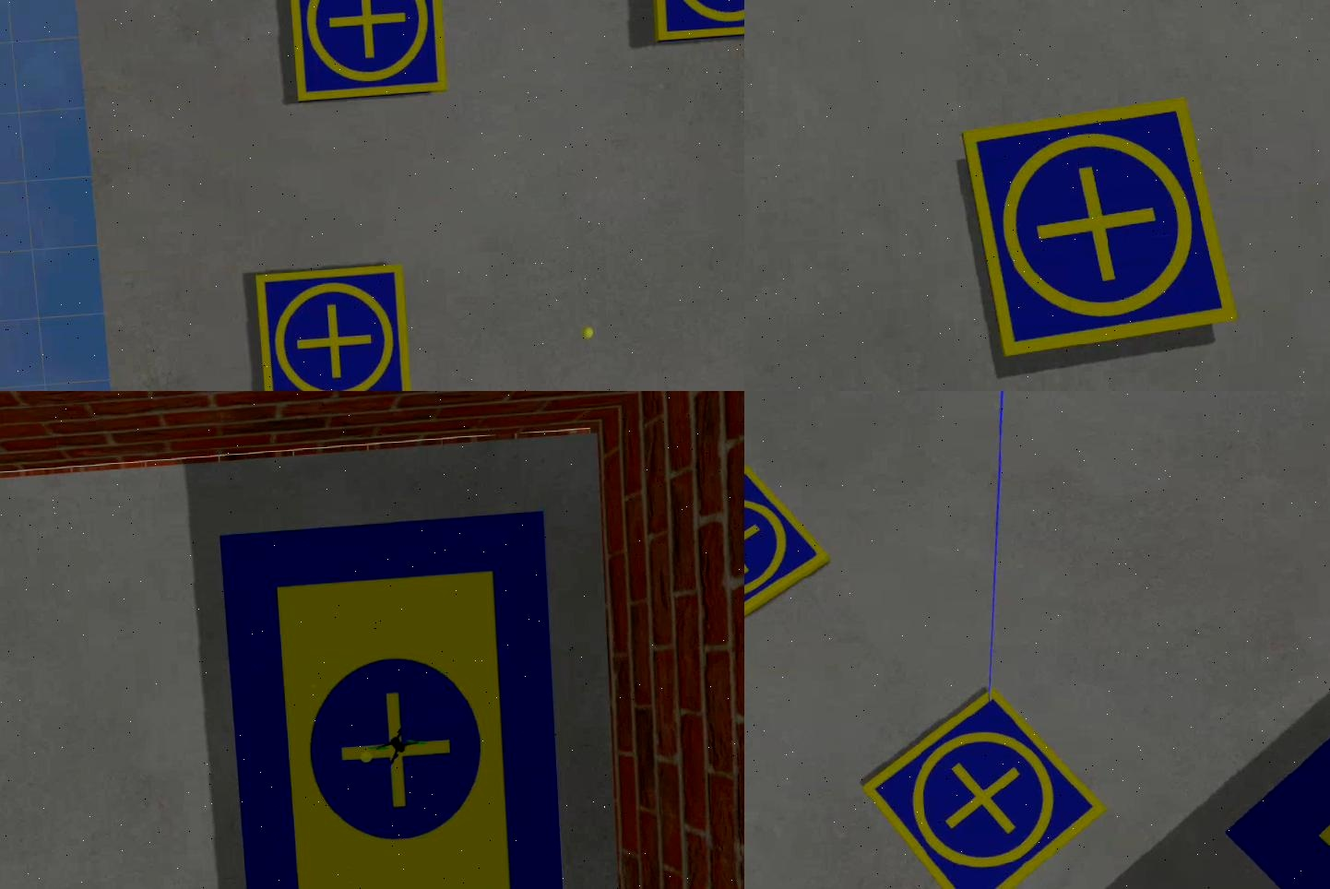large_base: (220, 509, 572, 889)
small_base: (964, 97, 1237, 362), (857, 683, 1114, 889), (256, 264, 416, 391), (287, 1, 450, 104), (745, 464, 837, 646), (647, 1, 745, 42)
